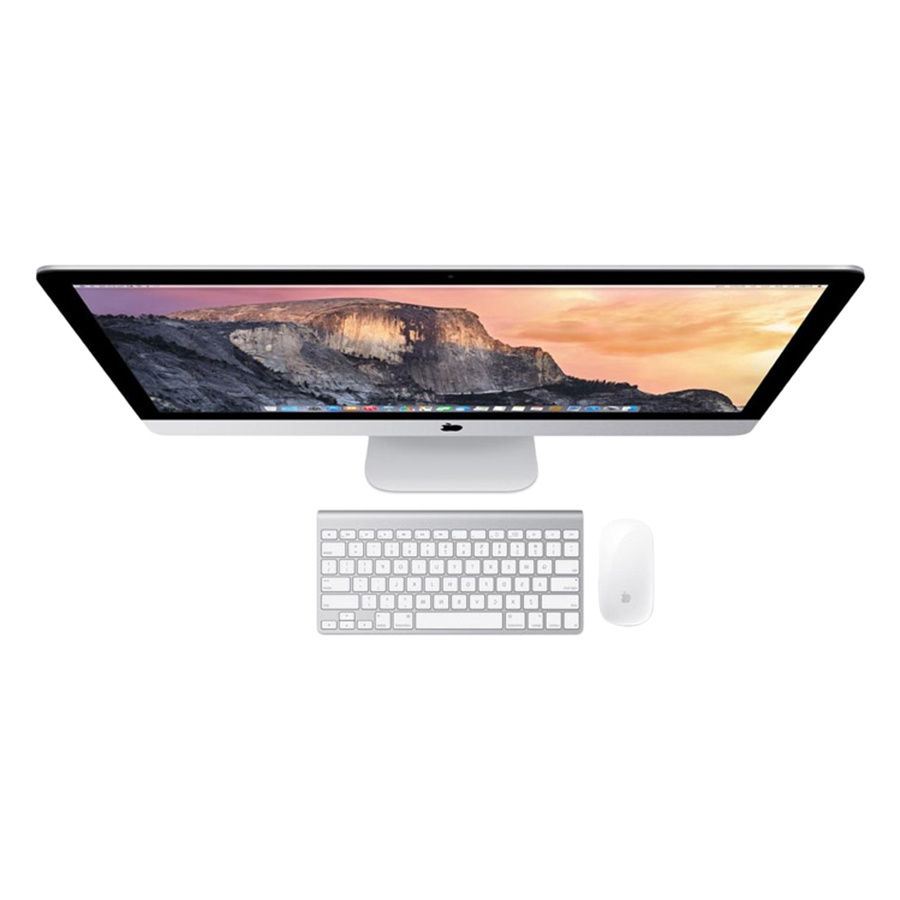Apple: (348, 392, 520, 501), (522, 529, 666, 642)
